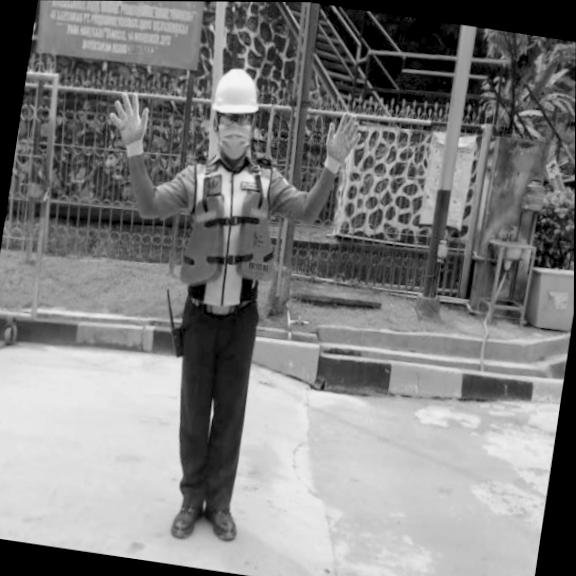safety_vest: (176, 179, 288, 301)
